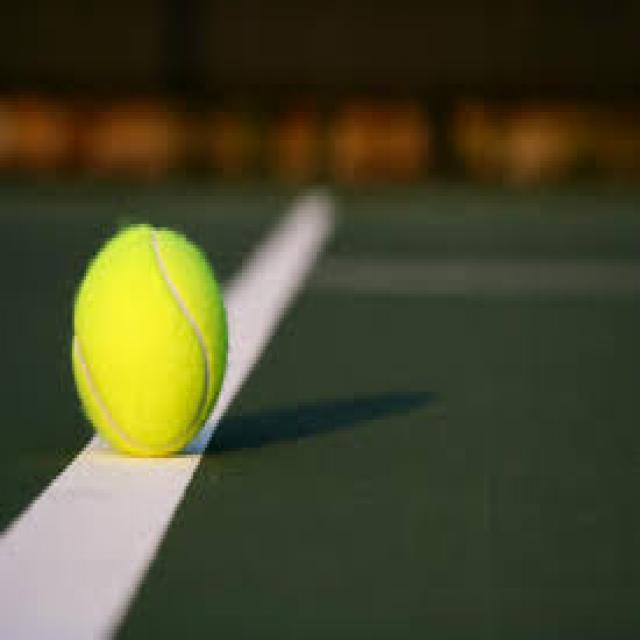Tennis-Ball: (74, 227, 228, 457)
